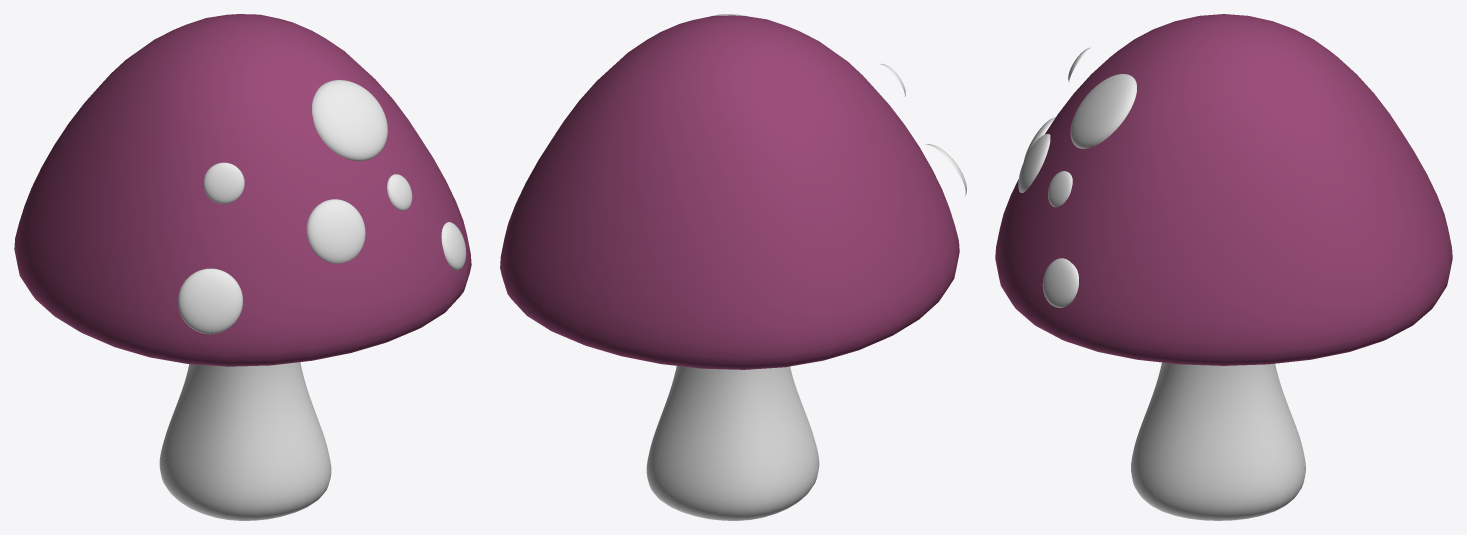
The model's file is hongo_rosa.glb.
3 renders of one model, left to right at view 1: azimuth 30°, elevation 25°; view 2: azimuth 150°, elevation 25°; view 3: azimuth 270°, elevation 25°, orthographic.
Parts seen in each view (by area): view 1: Cubo.008, Cubo.009, Esfera.008, Esfera.011, Esfera.006, Esfera.007, Esfera.010, Esfera.009; view 2: Cubo.008, Cubo.009; view 3: Cubo.008, Cubo.009, Esfera.008, Esfera.010, Esfera.006, Esfera.009.
Boxes of the visible parts, x1=… form: Cubo.008: x1=14, y1=14, x2=471, y2=366; Cubo.009: x1=159, y1=362, x2=331, y2=520; Esfera.008: x1=312, y1=80, x2=387, y2=161; Esfera.011: x1=178, y1=268, x2=242, y2=334; Esfera.006: x1=306, y1=199, x2=365, y2=263; Esfera.007: x1=203, y1=162, x2=244, y2=203; Esfera.010: x1=441, y1=222, x2=466, y2=270; Esfera.009: x1=387, y1=174, x2=412, y2=210; Cubo.008: x1=500, y1=15, x2=959, y2=369; Cubo.009: x1=646, y1=366, x2=819, y2=520; Cubo.008: x1=995, y1=14, x2=1452, y2=365; Cubo.009: x1=1131, y1=362, x2=1305, y2=520; Esfera.008: x1=1070, y1=74, x2=1136, y2=148; Esfera.010: x1=1042, y1=258, x2=1078, y2=307; Esfera.006: x1=1018, y1=134, x2=1050, y2=192; Esfera.009: x1=1048, y1=171, x2=1072, y2=207.
Size of the model in its own units: 5.2 by 6.06 by 5.3.
